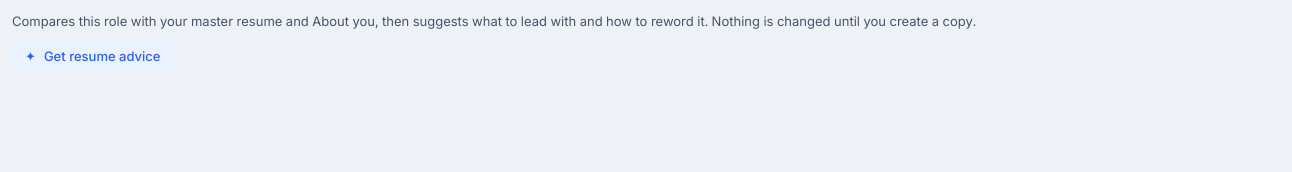
Scenario: JobAdvice › shows an error and lets the person try again
This screenshot has width=1292, height=172.
Click the button "✦ Get resume advice" at (93, 56), box [12, 40, 174, 72]
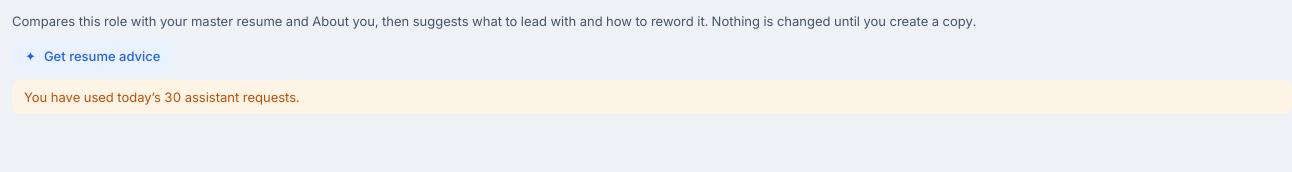
Expected: the message shows "used today", [24, 89, 300, 105]
